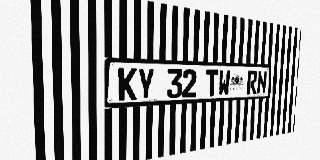2: (182, 69, 197, 98)
3: (167, 69, 182, 98)
K: (118, 68, 137, 101)
N: (257, 71, 267, 94)
R: (247, 70, 257, 94)
T: (205, 70, 218, 97)
W: (218, 70, 230, 96)
Y: (137, 68, 155, 100)
